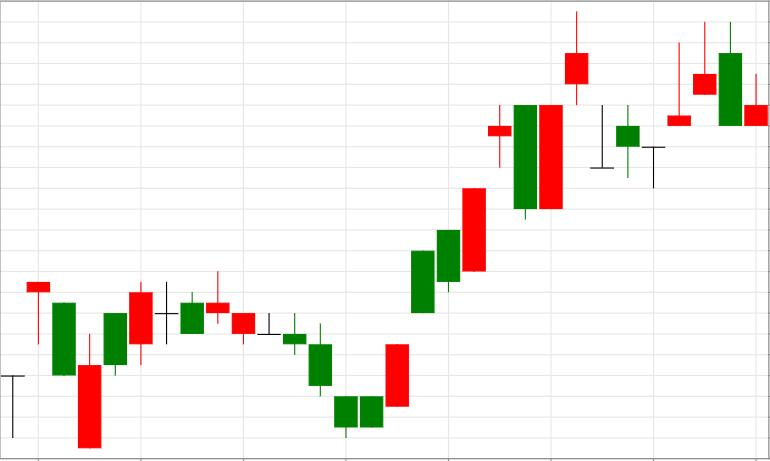shooting_star_fall: (385, 12, 588, 406)
